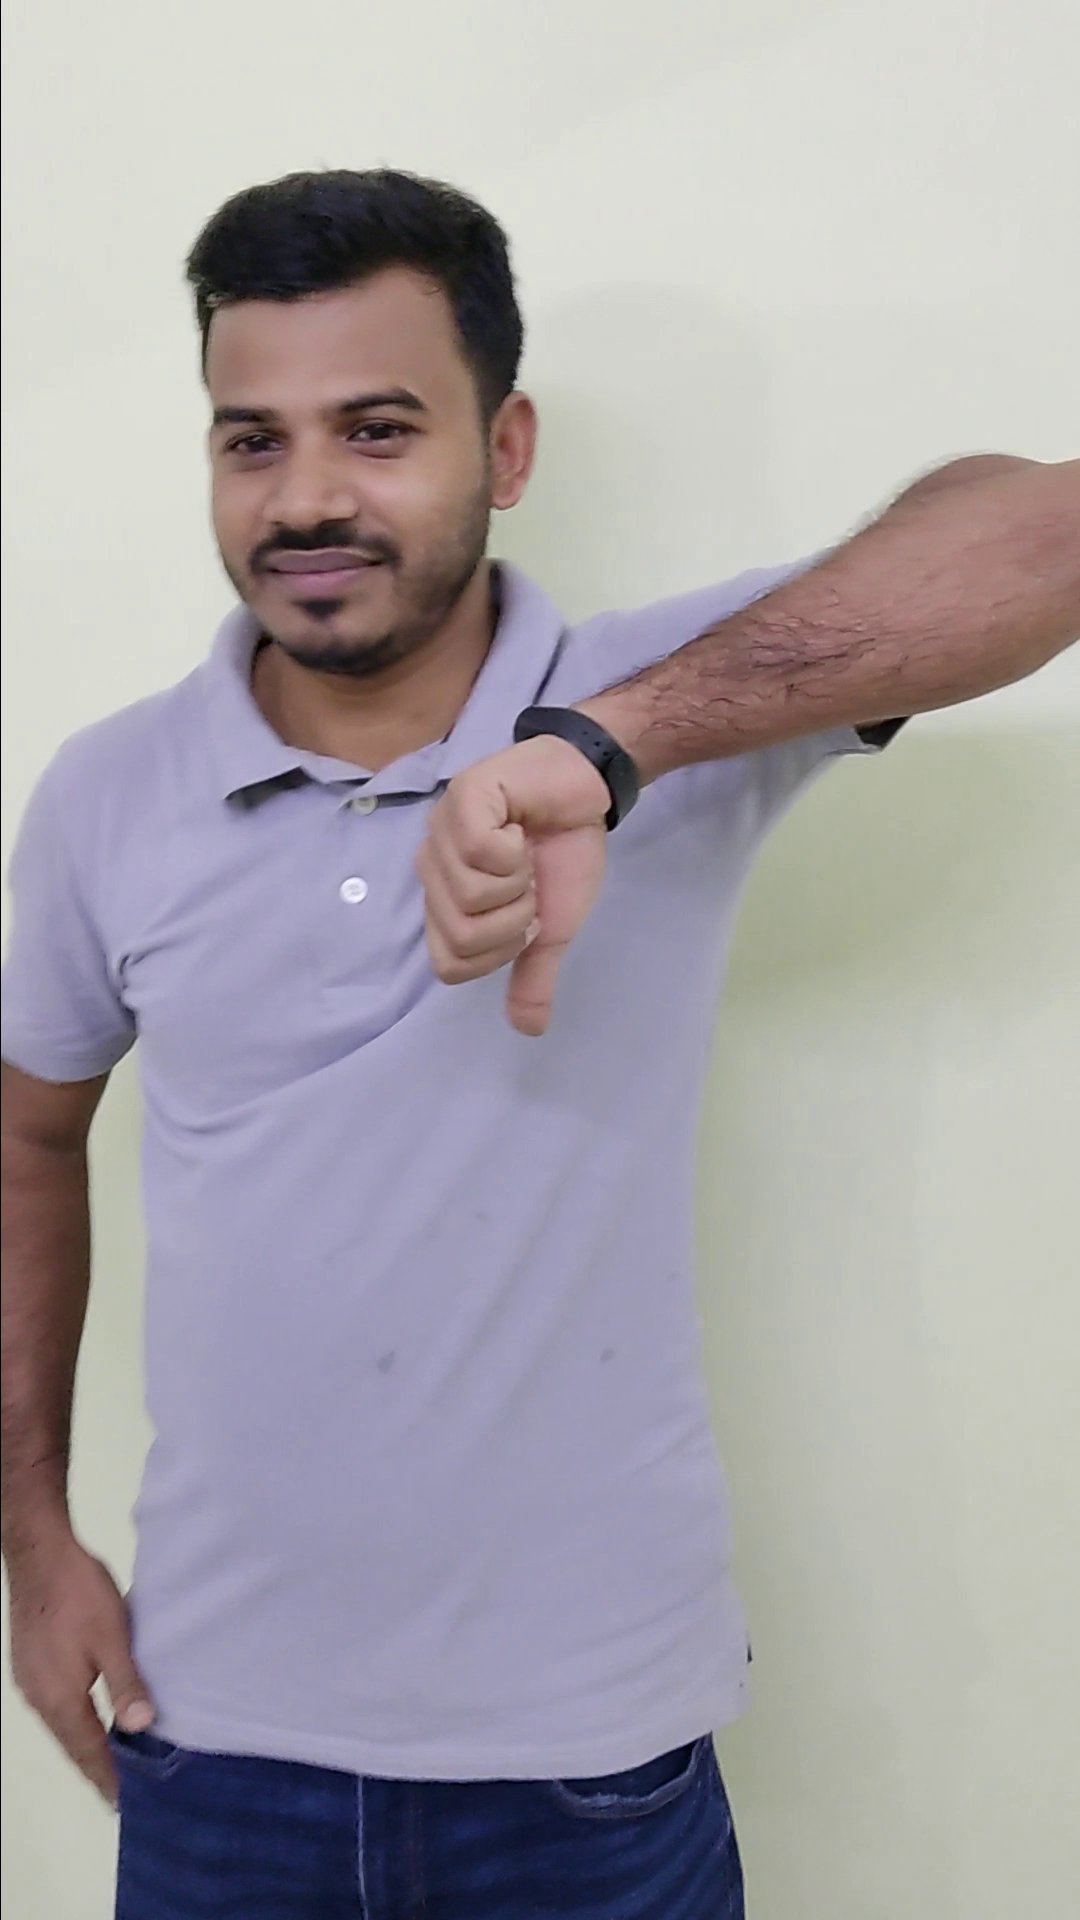Dislike: (401, 712, 624, 1048)
None: (4, 1513, 170, 1811)
